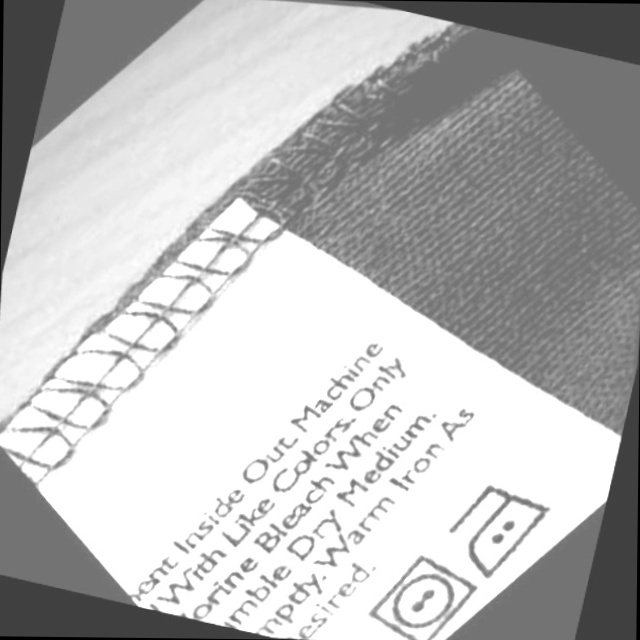iron_medium: (431, 463, 575, 598)
tumble_dry_medium: (353, 534, 498, 640)
